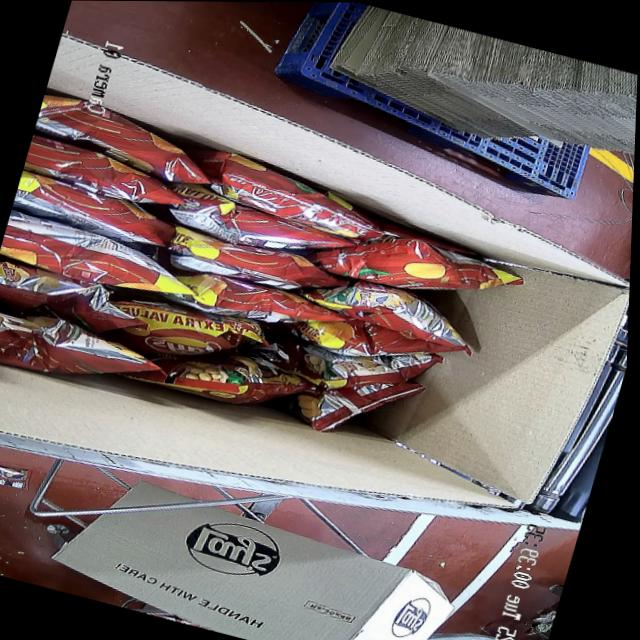MASALA: (0, 89, 545, 485)
